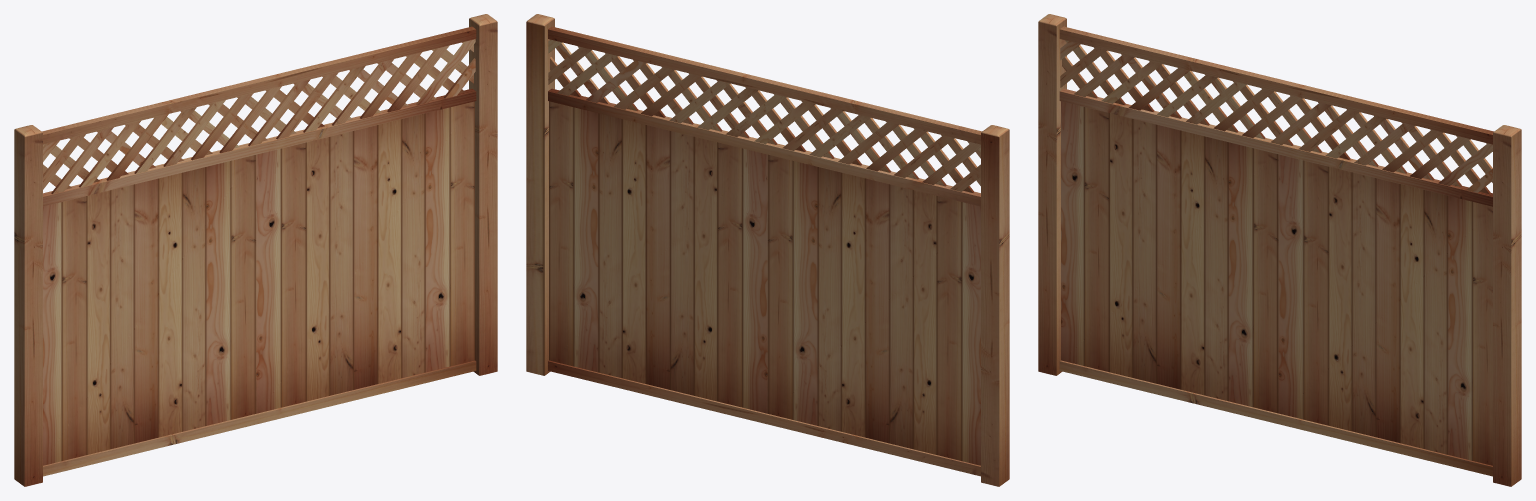
File: Cedar_Lattice_Fence_Updated_.fbx
3 views of the same model, side by side, from view 1: azimuth 30°, elevation 25°; view 2: azimuth 150°, elevation 25°; view 3: azimuth 330°, elevation 25° (orthographic).
Parts seen in each view (by area): view 1: Lattices_02_Lattices_01, Pillar_1, Pillar_; view 2: Lattices_02_Lattices_01, Pillar_1, Pillar_; view 3: Lattices_02_Lattices_01, Pillar_, Pillar_1.
Boxes of the visible parts, x1,y1,x2,y2 form: Lattices_02_Lattices_01: (42, 26, 476, 476); Pillar_1: (14, 125, 42, 486); Pillar_: (469, 14, 497, 375); Lattices_02_Lattices_01: (548, 26, 981, 476); Pillar_1: (981, 125, 1009, 486); Pillar_: (526, 14, 554, 375); Lattices_02_Lattices_01: (1059, 26, 1493, 476); Pillar_: (1493, 125, 1521, 486); Pillar_1: (1038, 14, 1066, 375).
Size of the model in its own units: 263 by 187 by 10.16.
Materials: 1 (1 with a texture image).
